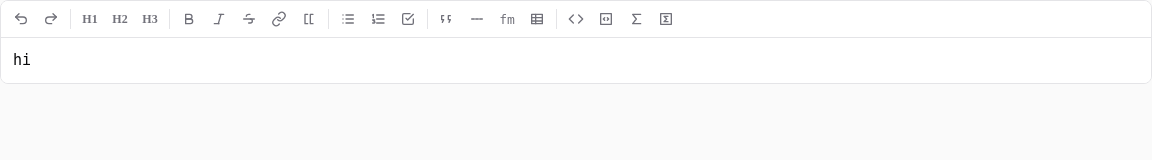
Test: Stylo shows the bar for source mode and a button runs its command
The image size is (1152, 160).
Click the button named "Bold" at (189,19), box 175,5 -> 203,33
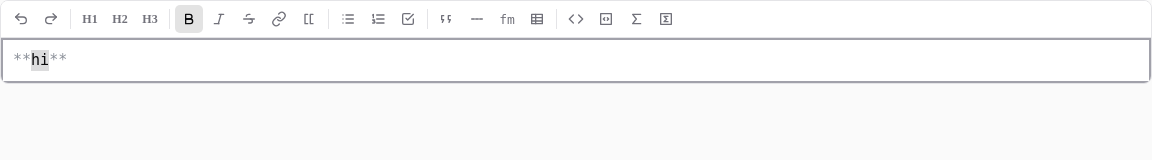
Result: the text box labelled "**hi**" is shown at 13,51 -> 67,69
